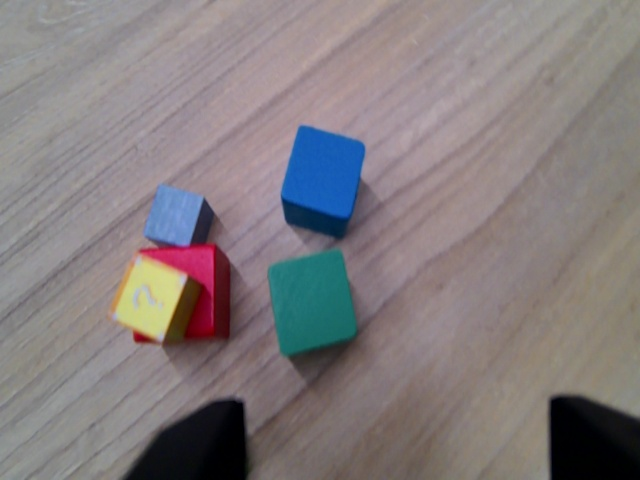lucky: (114, 251, 203, 351)
stone: (147, 183, 208, 249)
